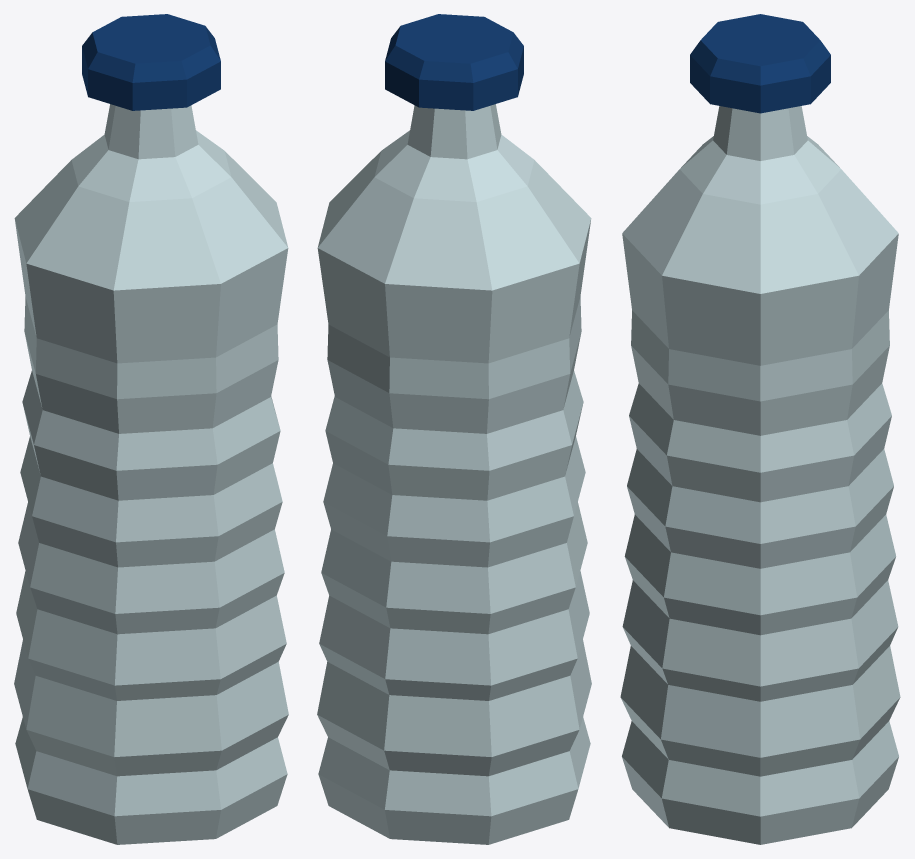
The model's file is Bottled Water.fbx.
3 views of the same model, side by side, from view 1: azimuth 30°, elevation 25°; view 2: azimuth 150°, elevation 25°; view 3: azimuth 270°, elevation 25° (orthographic).
Parts seen in each view (by area): view 1: Bottled Water; view 2: Bottled Water; view 3: Bottled Water.
Part boxes in pixels (x1,y1,x2,y2): Bottled Water: (14,14,288,844); Bottled Water: (317,14,591,844); Bottled Water: (620,14,900,844).
Bounding box in the file's own units: 6.42 × 18.47 × 6.26.
